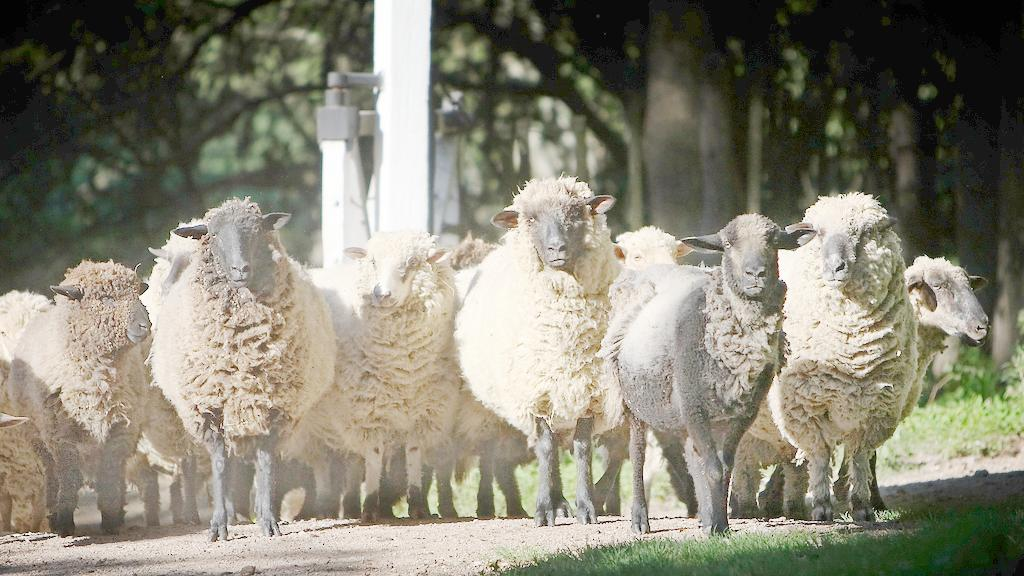Sheep: (442, 173, 645, 529), (136, 186, 342, 530), (625, 217, 821, 542), (759, 188, 928, 531), (316, 222, 462, 538), (12, 252, 156, 535), (849, 254, 991, 514), (611, 220, 689, 328)
